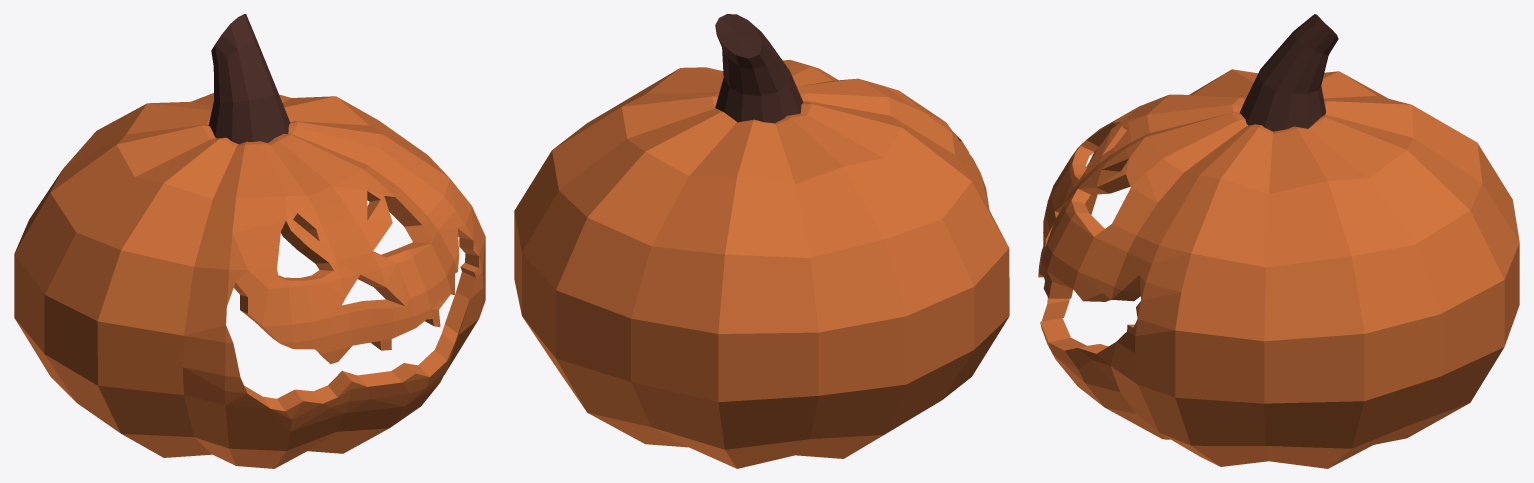
File: pumpkin.glb
The picture shows the model from 3 angles, left to right: view 1: azimuth 30°, elevation 25°; view 2: azimuth 150°, elevation 25°; view 3: azimuth 270°, elevation 25°; orthographic projection. The views are drawn at different scales.
Visible parts, largest first — view 1: Pumpkin; view 2: Pumpkin; view 3: Pumpkin.
Part boxes in pixels (x1,y1,x2,y2): Pumpkin: (14, 14, 485, 468); Pumpkin: (514, 14, 1009, 468); Pumpkin: (1038, 14, 1519, 468).
Bounding box in the file's own units: 0.7 × 0.65 × 0.6885.
1 material, 1 textured.
